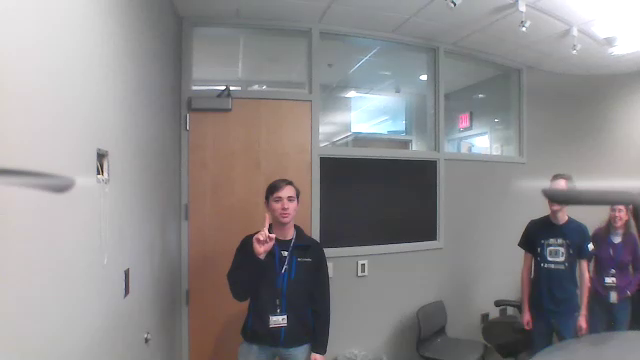up: (250, 208, 278, 258)
